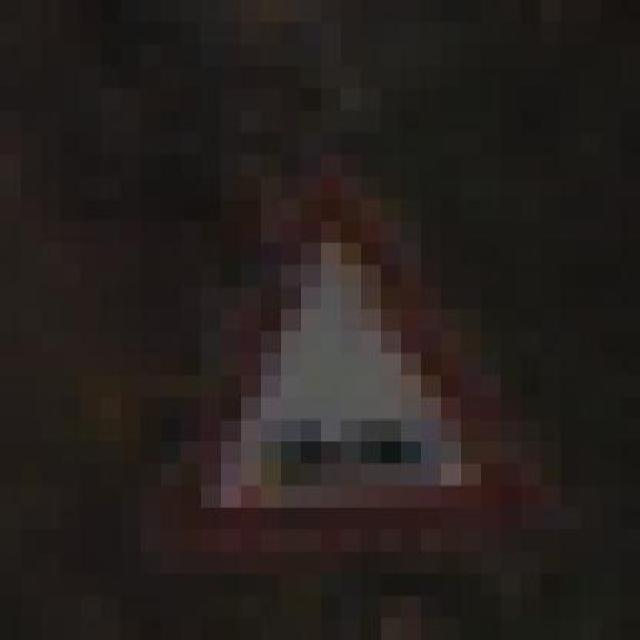Uneven Road: (120, 154, 540, 574)
